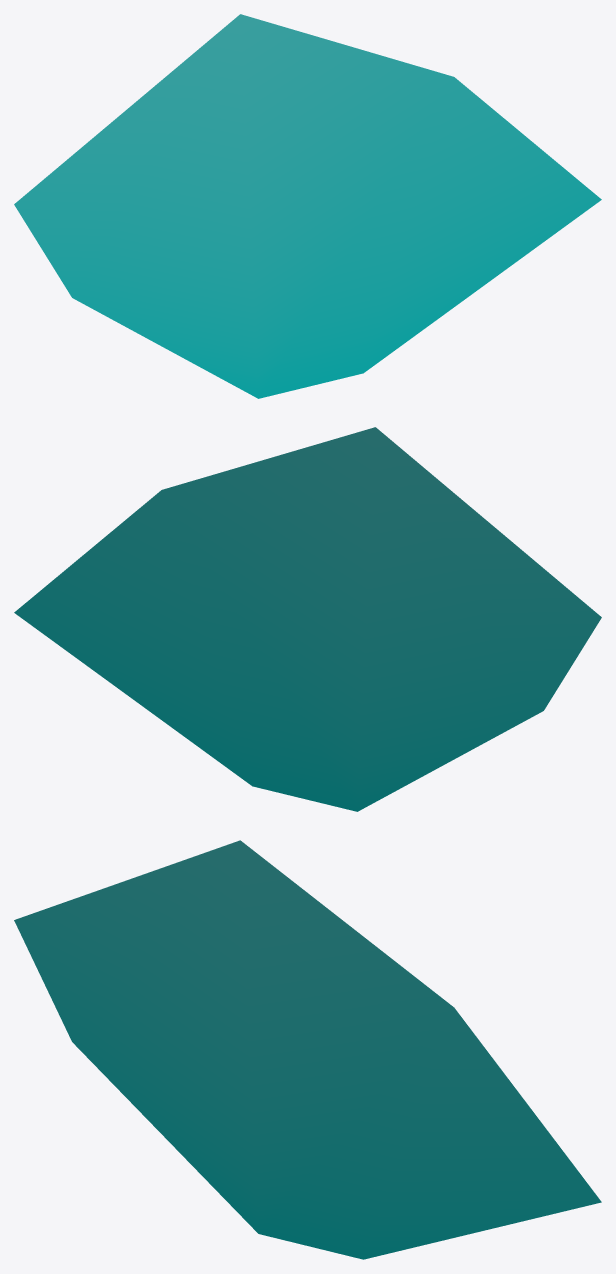
File: xefmcgrqx_VarE_LOD3.fbx
3 renders of one model, top to bottom at view 1: azimuth 30°, elevation 25°; view 2: azimuth 150°, elevation 25°; view 3: azimuth 330°, elevation 25°, orthographic.
Visible parts, largest first — view 1: _86f4_VarE_LOD6; view 2: _86f4_VarE_LOD6; view 3: _86f4_VarE_LOD6.
Part boxes in pixels (x1,y1,x2,y2): _86f4_VarE_LOD6: (14,14,601,398); _86f4_VarE_LOD6: (14,427,601,811); _86f4_VarE_LOD6: (14,840,601,1259).
Bounding box in the file's own units: 64.66 × 40.92 × 0.
